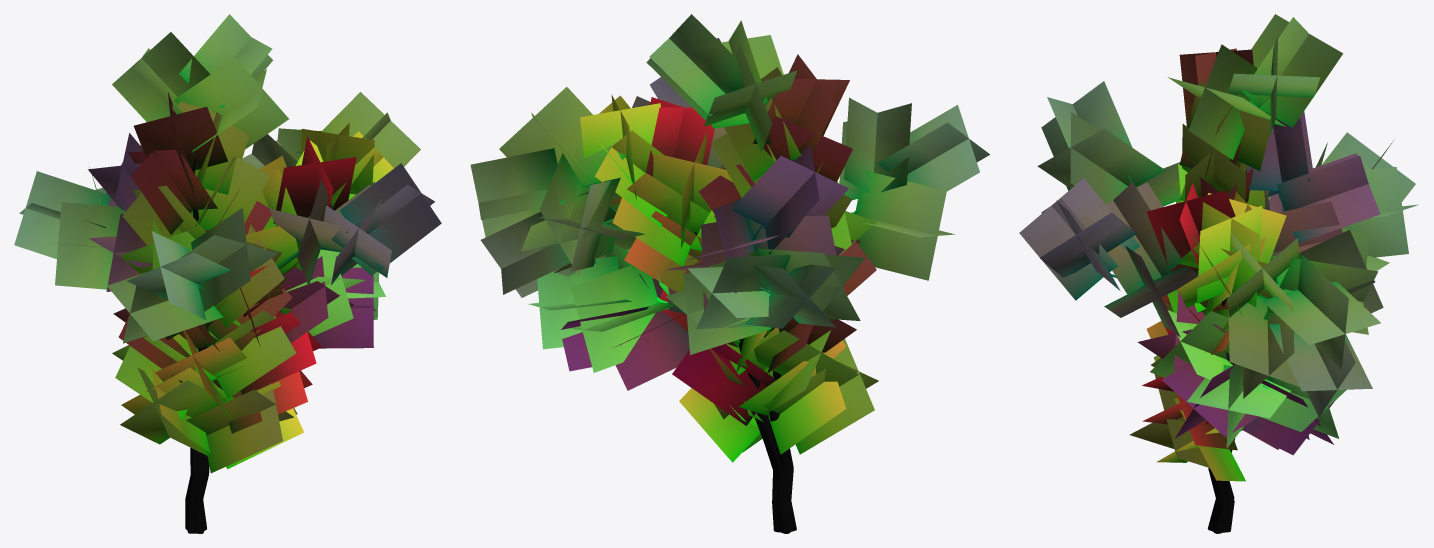
Rendered from URP_P3_Tree_12_LOD_1.fbx.
3 renders of one model, left to right at view 1: azimuth 30°, elevation 25°; view 2: azimuth 150°, elevation 25°; view 3: azimuth 270°, elevation 25°, orthographic. The views are drawn at different scales.
Parts seen in each view (by area): view 1: Tree_12_LOD_1; view 2: Tree_12_LOD_1; view 3: Tree_12_LOD_1.
Boxes of the visible parts, <box> form: Tree_12_LOD_1: <box>14,14,441,533</box>; Tree_12_LOD_1: <box>470,14,989,533</box>; Tree_12_LOD_1: <box>1019,14,1418,533</box>.
Bounding box in the file's own units: 535 × 665 × 458.
